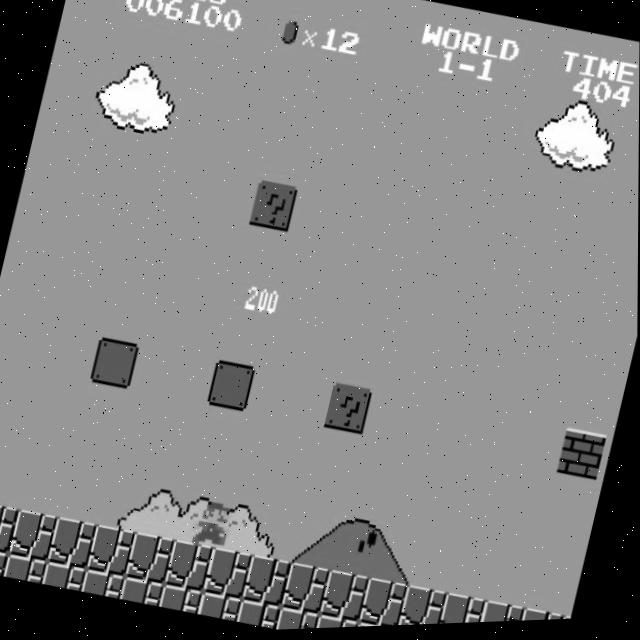1- brick_block: (557, 430, 607, 486)
11- little_mario: (186, 496, 239, 555)
13- mystery_block: (323, 383, 373, 439), (249, 180, 299, 235)
17- undestructible_block: (8, 508, 59, 563), (86, 523, 136, 579), (125, 531, 175, 587), (164, 539, 214, 595), (47, 516, 97, 571), (203, 547, 253, 602), (242, 555, 292, 610), (281, 563, 331, 618), (320, 571, 370, 626), (358, 578, 409, 629), (397, 586, 448, 628), (436, 594, 486, 627), (159, 583, 204, 617), (198, 591, 243, 625), (237, 599, 282, 633), (3, 552, 48, 585), (42, 560, 87, 593), (81, 568, 126, 601), (120, 576, 165, 609), (475, 602, 525, 626), (275, 607, 320, 632), (0, 499, 19, 554), (514, 609, 564, 625), (314, 614, 359, 631), (0, 544, 9, 576)
3- empty_block: (89, 336, 140, 391), (206, 359, 256, 415)
